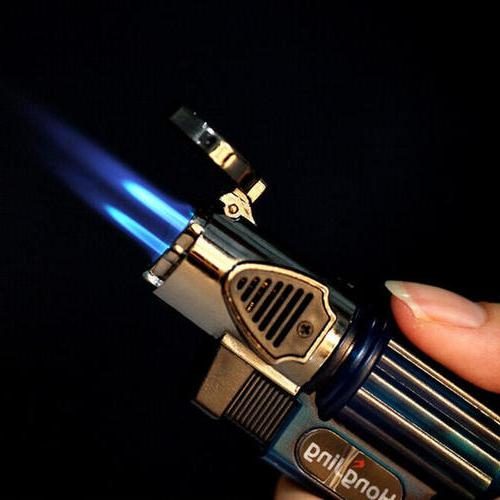fire: (35, 120, 213, 274)
